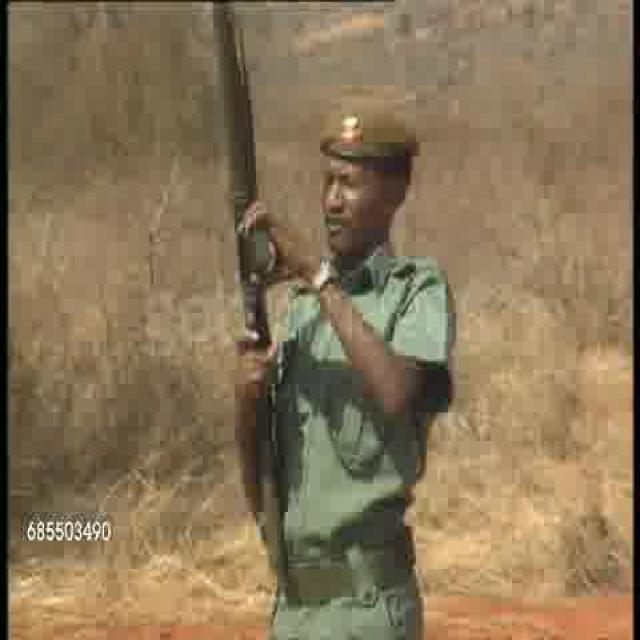poacher: (282, 71, 426, 525)
weapon: (212, 1, 286, 564)
